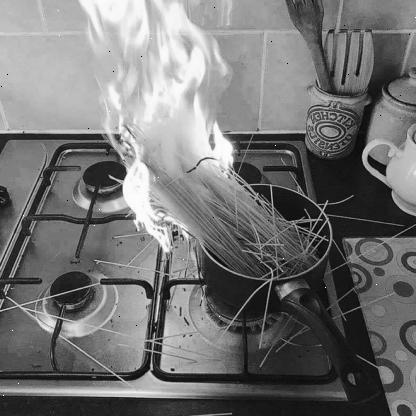fire: (74, 1, 240, 244)
smoke: (144, 104, 205, 181)
